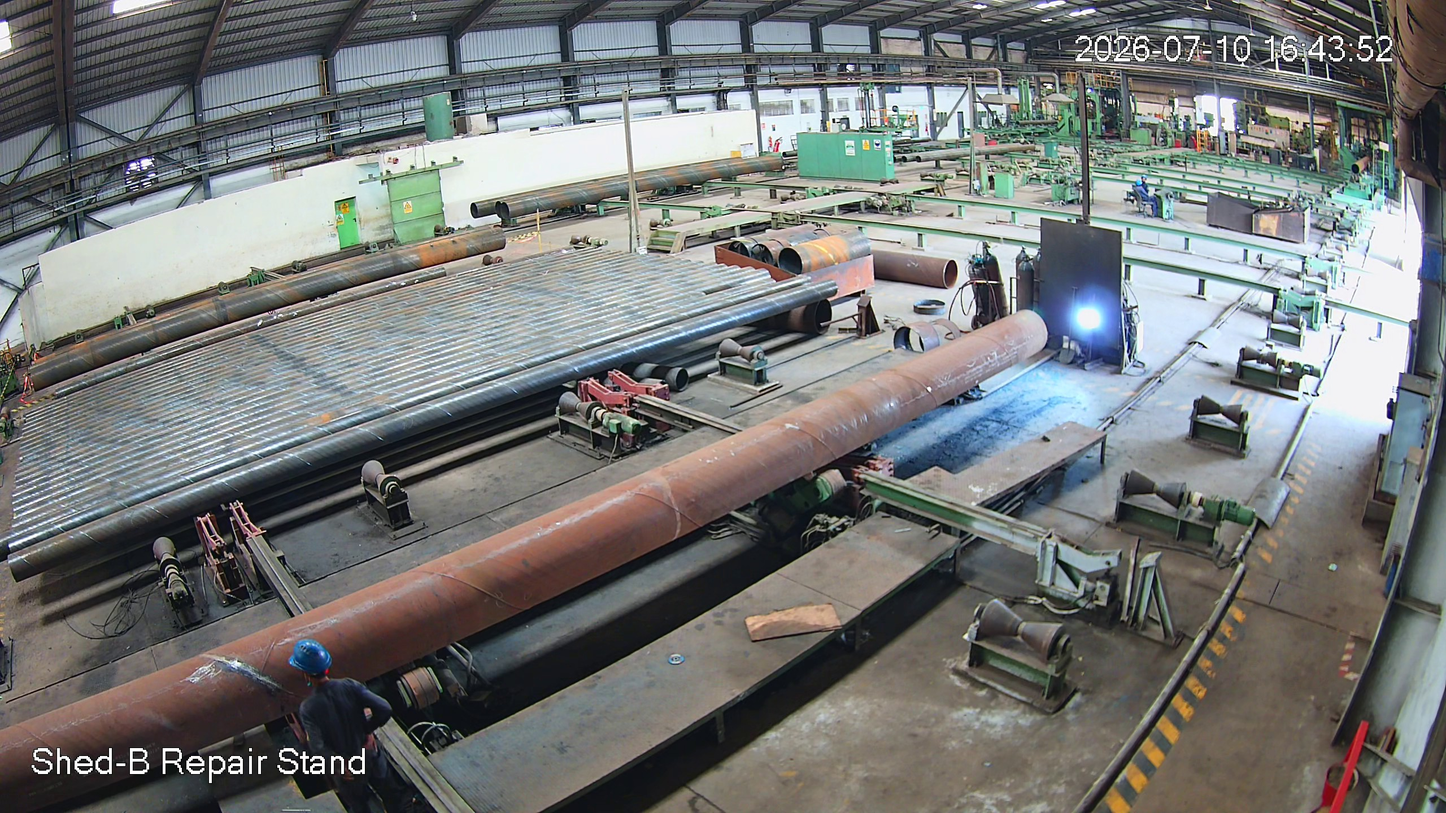Helmet: (289, 639, 347, 692)
Person: (269, 645, 409, 813)
